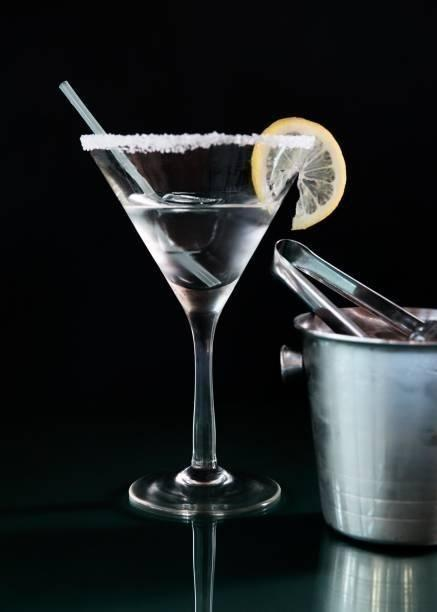glass-wine: (77, 124, 304, 518)
